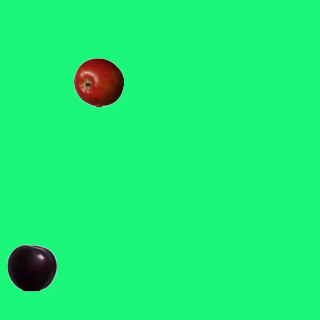Apple Braeburn: (73, 57, 123, 107)
Cherry Wax Black: (6, 242, 56, 292)
